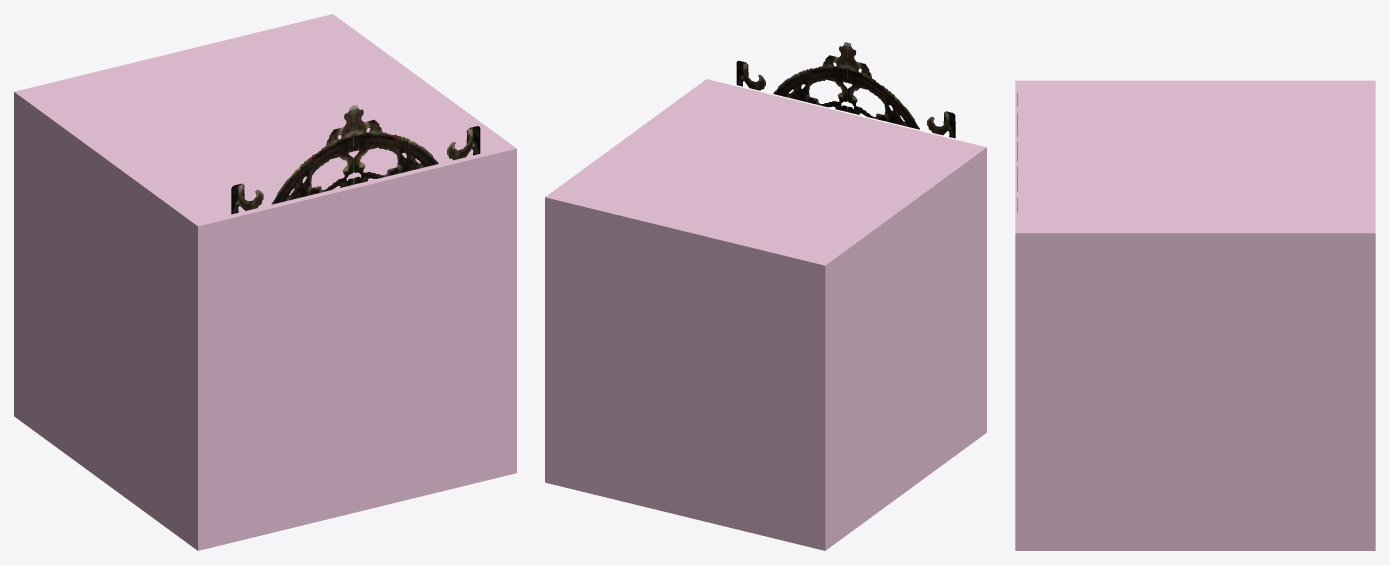
3 views of the same model, side by side, from view 1: azimuth 30°, elevation 25°; view 2: azimuth 150°, elevation 25°; view 3: azimuth 270°, elevation 25° (orthographic). The views are drawn at different scales.
Visible parts, largest first — view 1: HouseEtc03; view 2: HouseEtc03; view 3: HouseEtc03.
Part boxes in pixels (x1,y1,x2,y2): HouseEtc03: [14, 14, 516, 550]; HouseEtc03: [545, 42, 986, 550]; HouseEtc03: [1015, 80, 1375, 550].
Size of the model in its own units: 200 by 244 by 200.
